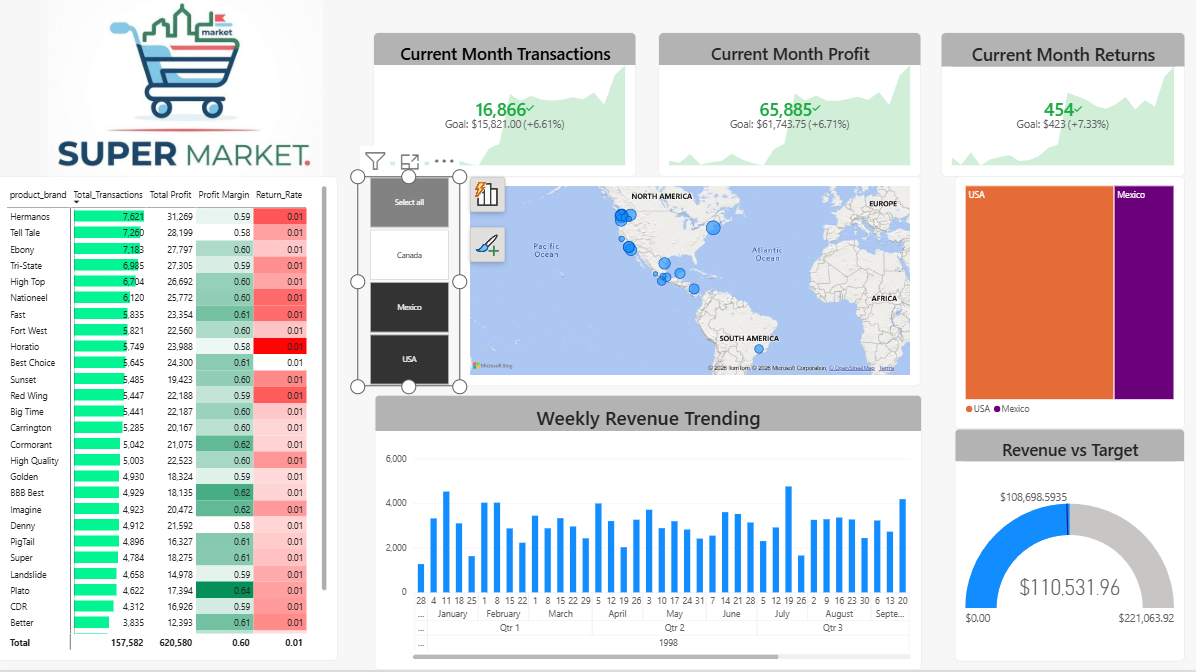

The dashboard page shown, as its layout file describes it:
{"tool":"powerbi","page":{"name":"Topline Performance","canvas":[1920,1080],"ordinal":0},"visuals":[{"type":"textbox","box":[10,580,280,280],"z":0},{"type":"pivotTable","fields":{"Rows":["Products.product_brand"],"Values":["Transaction_Data.Total_Transactions","Transaction_Data.Total Profit","Transaction_Data.Profit Margin","All Measures.Return_Rate"]},"box":[0,290,546.7,775],"z":2000},{"type":"kpi","title":"Current Month Transactions","fields":{"Goal":["Transaction_Data.Last Month Transactions"],"Indicator":["Transaction_Data.Total_Transactions"],"TrendLine":["Calendar.Start of Month"]},"box":[604,60,420,230],"z":3000},{"type":"kpi","title":"Current Month Profit","fields":{"Goal":["Transaction_Data.Last Month Profit"],"Indicator":["Transaction_Data.Total Profit"],"TrendLine":["Calendar.Start of Month"]},"box":[1060,60,420,230],"z":4000},{"type":"kpi","title":"Current Month Returns","fields":{"Goal":["Transaction_Data.Last Month Returns"],"Indicator":["Returns_Data.Total_Returns"],"TrendLine":["Calendar.Start of Month"]},"box":[1512,60,390,230],"z":5000},{"type":"map","fields":{"Category":["Stores.store_city"],"Size":["Transaction_Data.Total_Transactions"]},"box":[742.5,290,737.5,335],"z":6000},{"type":"slicer","fields":{"Values":["Stores.store_country"]},"box":[577.5,290,165,335],"z":7000},{"type":"treemap","fields":{"Group":["Stores.store_country","Stores.store_state","Stores.store_city"],"Values":["Transaction_Data.Total_Transactions"]},"box":[1534,290,368,404],"z":8000},{"type":"clusteredColumnChart","title":"Weekly Revenue Trending","fields":{"Category":["Calendar.Start of Week.Variation.Date Hierarchy.Year","Calendar.Start of Week.Variation.Date Hierarchy.Quarter","Calendar.Start of Week.Variation.Date Hierarchy.Month","Calendar.Start of Week.Variation.Date Hierarchy.Day"],"Y":["Transaction_Data.Total_Transactions"]},"box":[605,640,875,440],"z":9000},{"type":"gauge","title":"Revenue vs Target","fields":{"TargetValue":["Transaction_Data.Revenue Target"],"Y":["Transaction_Data.Total Revenue"]},"box":[1534,694,368,372],"z":9001},{"type":"image","box":[10,18,536,258],"z":9002}]}

Visuals, with their boxes in screenshot pixels (x1, y1, x2, y2), scaled from the page's 1920x1080 canvas onto the 1196x672 screenshot:
textbox: [6, 361, 181, 535]
pivotTable - Products.product_brand x Transaction_Data.Total_Transactions: [0, 180, 341, 663]
"Current Month Transactions" kpi: [376, 37, 638, 180]
"Current Month Profit" kpi: [660, 37, 922, 180]
"Current Month Returns" kpi: [942, 37, 1185, 180]
map - Stores.store_city x Transaction_Data.Total_Transactions: [463, 180, 922, 389]
slicer - Stores.store_country: [360, 180, 463, 389]
treemap - Stores.store_country x Stores.store_state: [956, 180, 1185, 432]
"Weekly Revenue Trending" clusteredColumnChart: [377, 398, 922, 671]
"Revenue vs Target" gauge: [956, 432, 1185, 663]
image: [6, 11, 340, 172]
